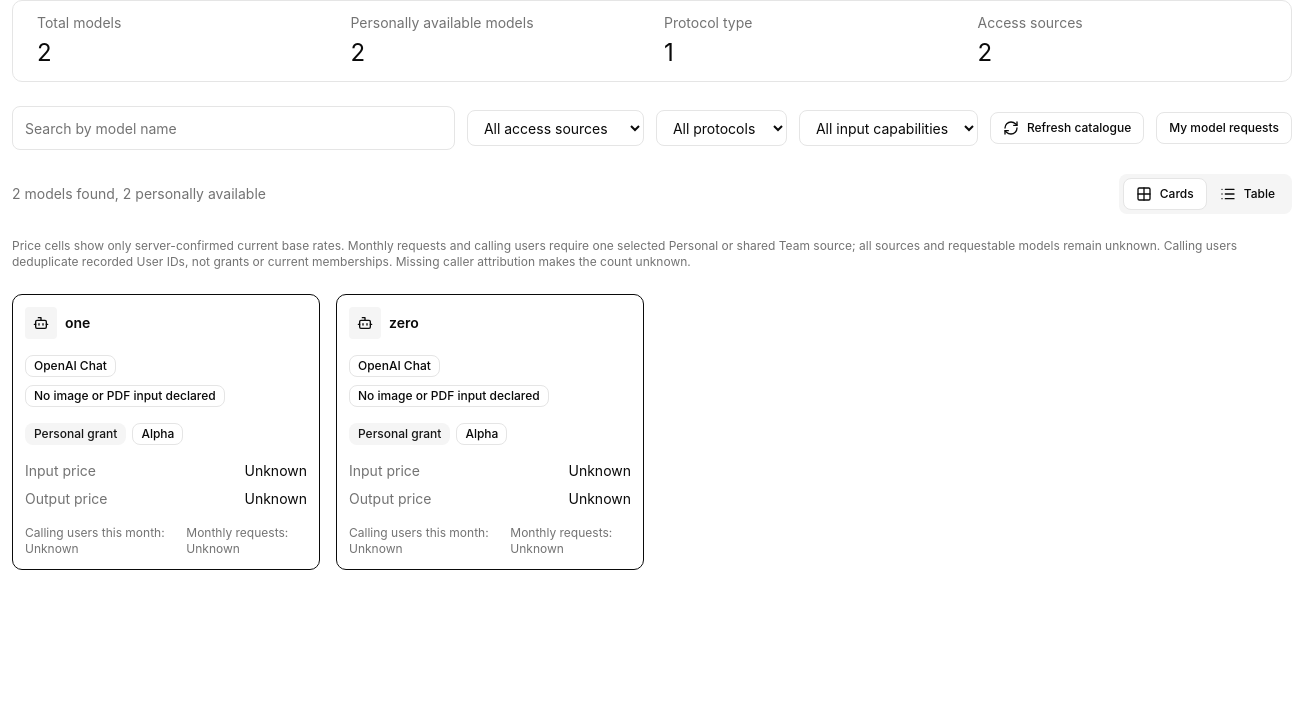
Test case: source-scoped catalogue monthly request facts › does not refresh usage when the fresh catalogue read fails
The image size is (1304, 720).
expect the number of list items is 2: met, box [12,294,320,570]; [336,294,644,570]
Select "Personal grant" in the dropdown named "Access source": (555, 128) [467,110,644,146]
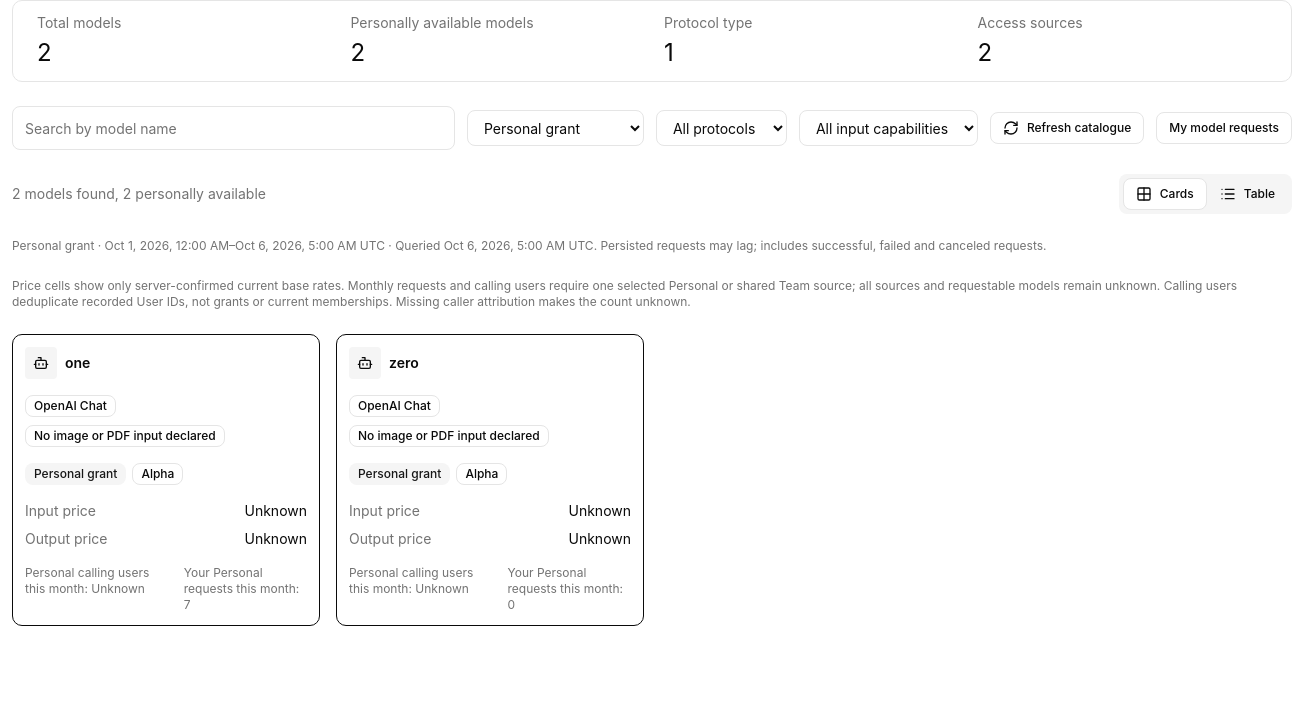
expect the list item with aria-label "Open API access for one" shows "month: 7": met, box [12,334,320,626]
Click the button "Refresh catalogue": click(1067, 128) [990,112,1144,144]
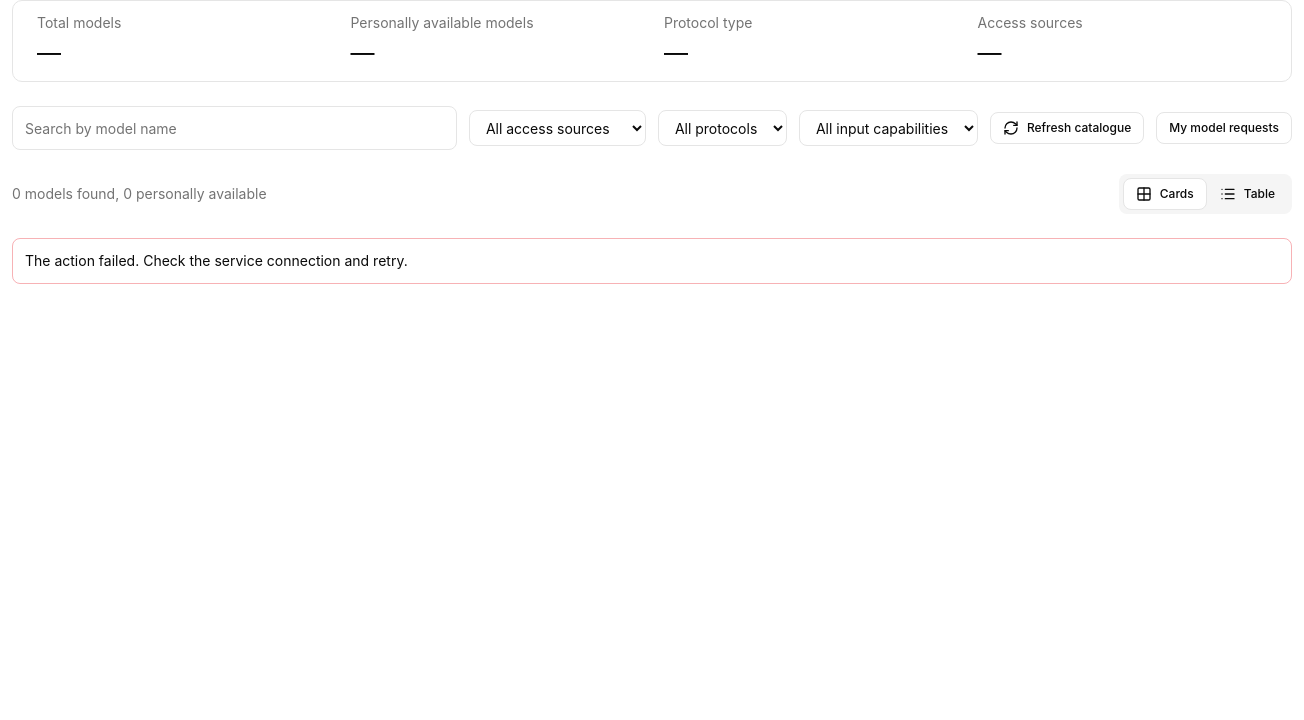
expect the message "The action failed. Check the service connection and retry." is shown: met, box [12,238,1292,284]
expect no list items are shown: met
expect the text "month: 7" is gone: met
